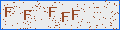F: (71, 10, 80, 20), (62, 12, 70, 23), (5, 7, 13, 17), (49, 7, 57, 17), (24, 10, 31, 20)
